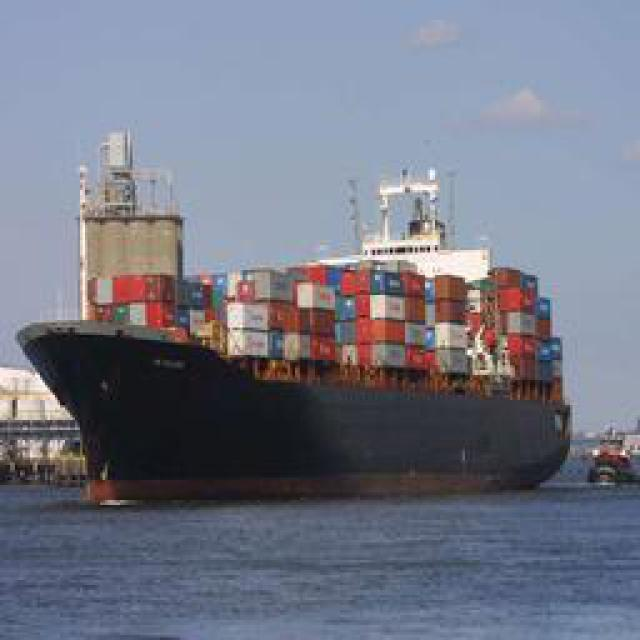Ship: (11, 121, 579, 486)
